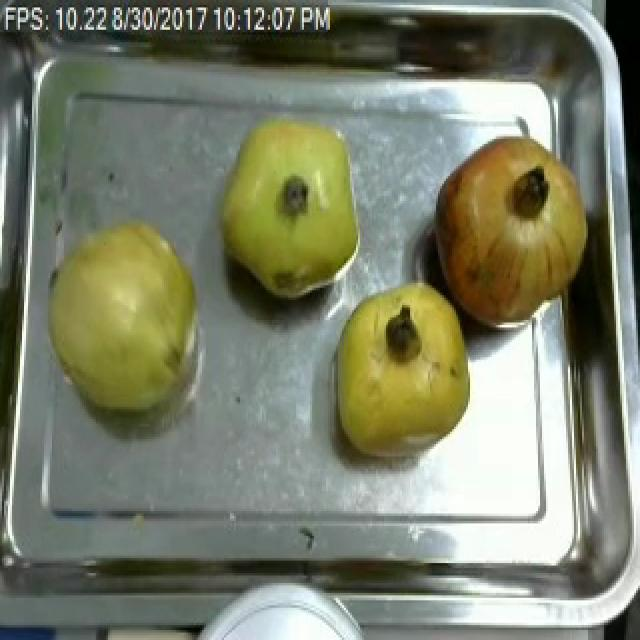fruit: (32, 199, 216, 434), (426, 124, 592, 337), (210, 99, 370, 313), (326, 273, 476, 471)
